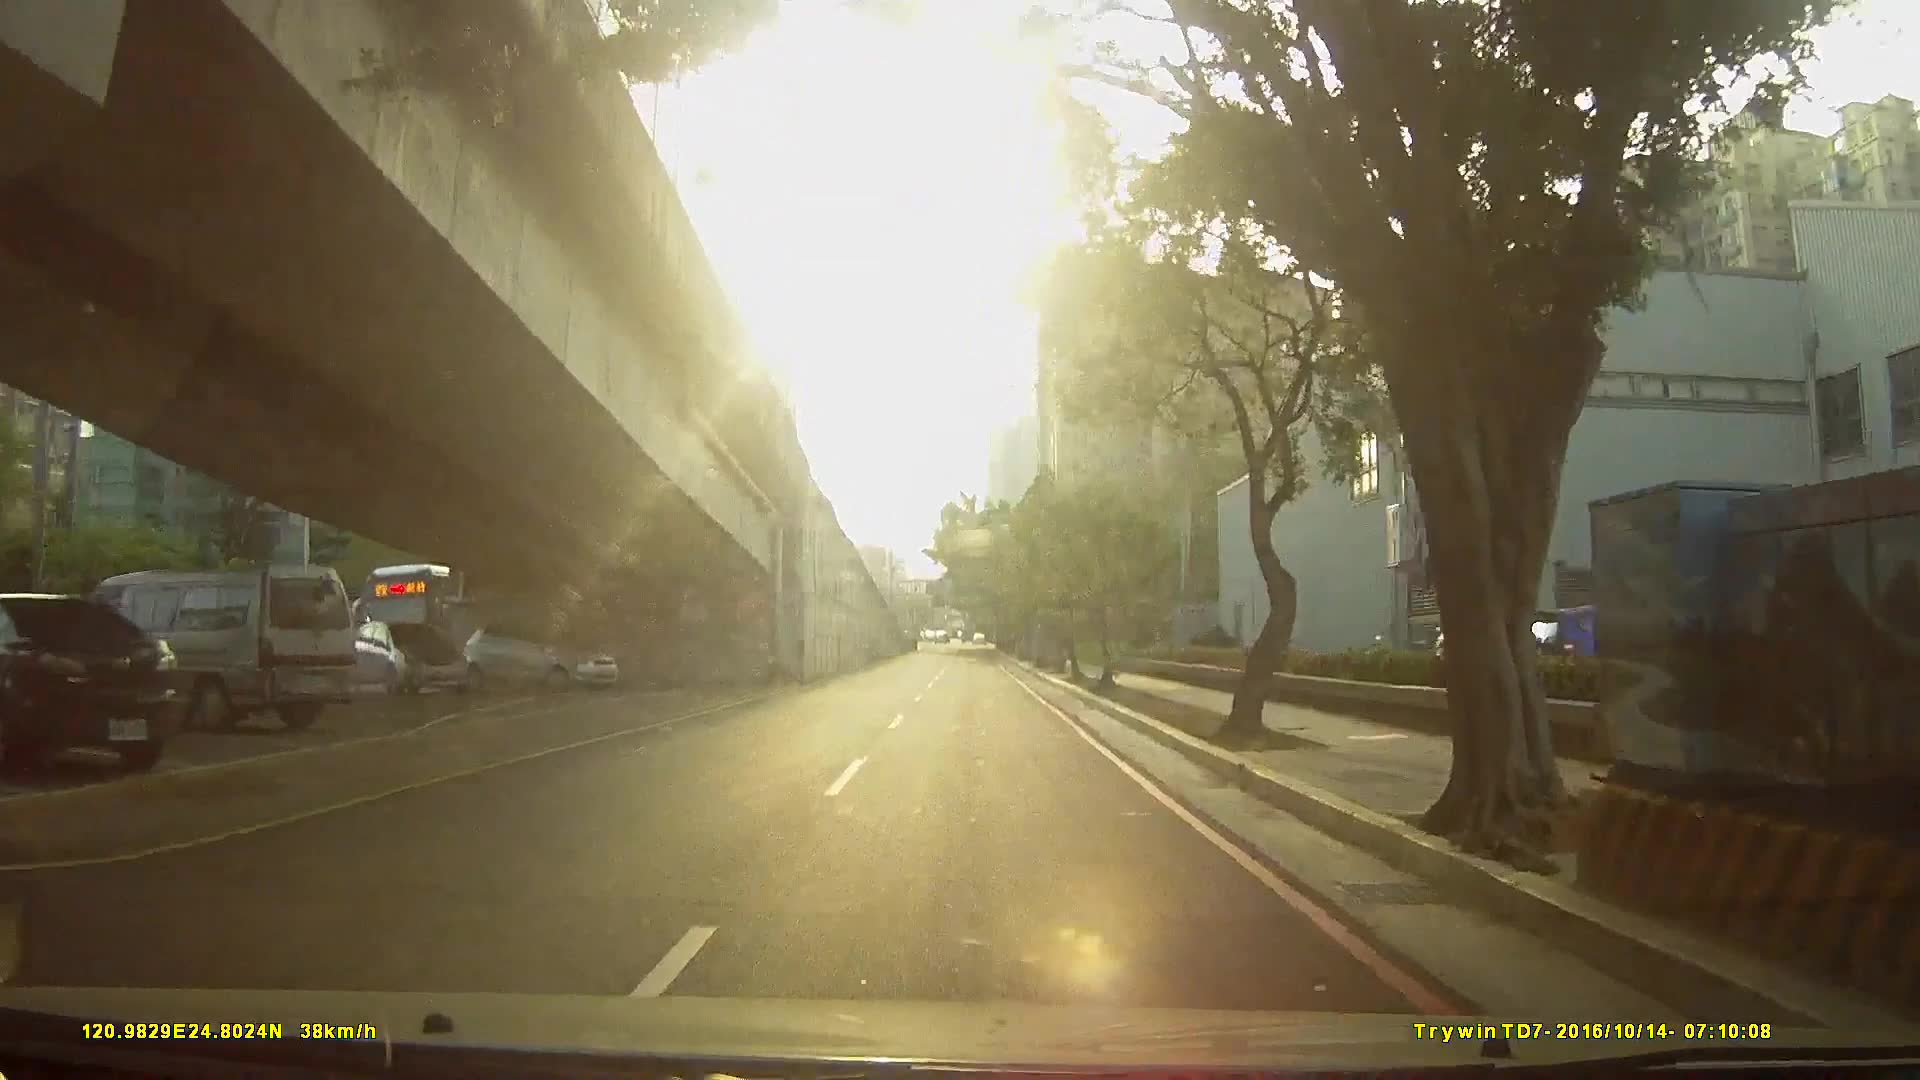vehicle: (49, 560, 360, 735), (1, 589, 203, 781), (348, 562, 549, 691), (452, 618, 617, 694), (338, 618, 465, 699)
